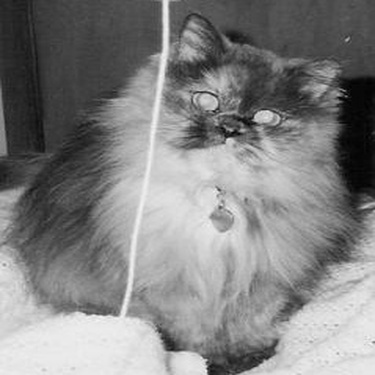cat: (18, 15, 356, 372)
